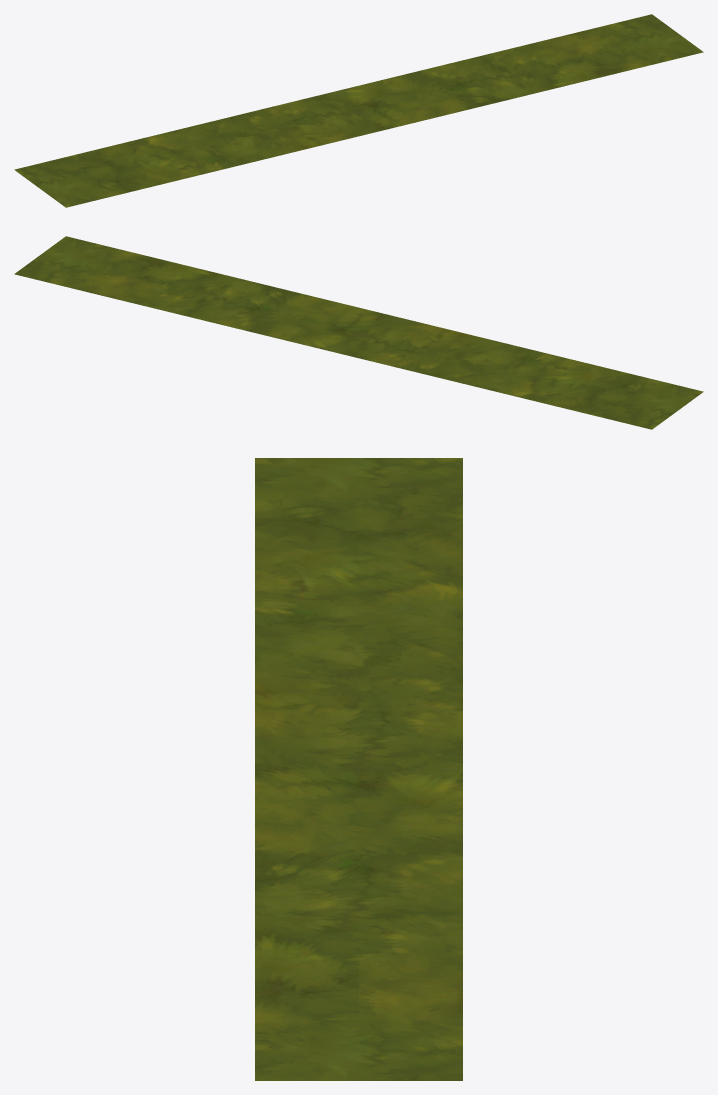
File: grass_floor_01blender.fbx
3 renders of one model, top to bottom at view 1: azimuth 30°, elevation 25°; view 2: azimuth 150°, elevation 25°; view 3: azimuth 270°, elevation 25°, orthographic. The views are drawn at different scales.
Parts seen in each view (by area): view 1: obj0.099; view 2: obj0.099; view 3: obj0.099.
Boxes of the visible parts, bbox=[...] form: obj0.099: bbox=[14, 14, 703, 207]; obj0.099: bbox=[14, 236, 703, 429]; obj0.099: bbox=[255, 458, 462, 1080].
Size of the model in its own units: 21.25 by 0.005 by 3.
